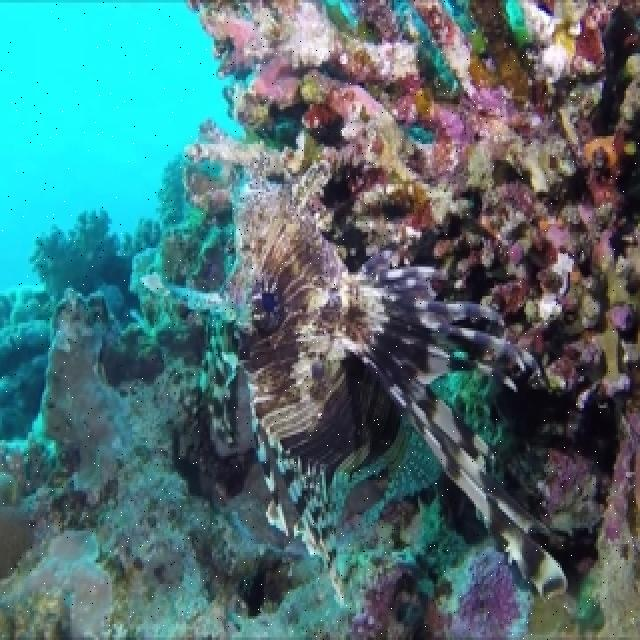fish: (221, 157, 569, 602)
reefs: (183, 0, 637, 413)
